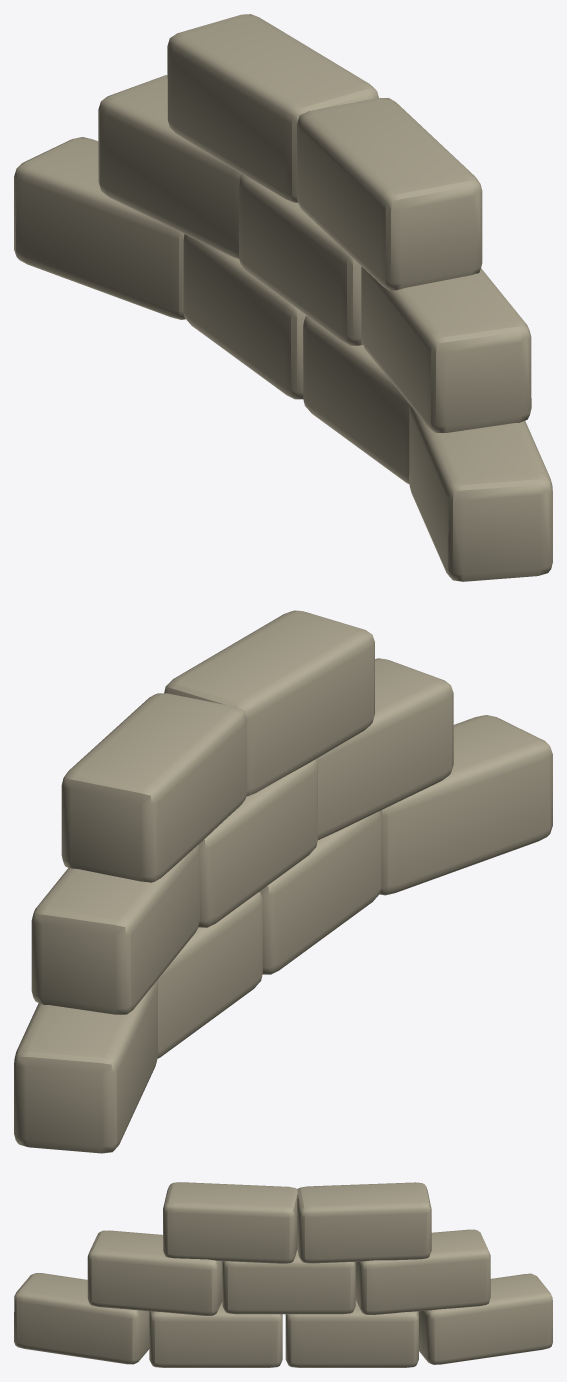
The model's file is okop.gltf.
3 renders of one model, top to bottom at view 1: azimuth 30°, elevation 25°; view 2: azimuth 150°, elevation 25°; view 3: azimuth 270°, elevation 25°, orthographic. The views are drawn at different scales.
Visible parts, largest first — view 1: Cube.007, Cube.008, Cube.004, Cube, Cube.005, Cube.006, Cube.003, Cube.002, Cube.001; view 2: Cube.008, Cube.007, Cube.006, Cube, Cube.005, Cube.004, Cube.003, Cube.001, Cube.002; view 3: Cube.008, Cube.007, Cube.004, Cube, Cube.005, Cube.006, Cube.002, Cube.001, Cube.003.
Boxes of the visible parts, x1,y1,x2,y2 form: Cube.007: (297, 98, 482, 290); Cube.008: (167, 14, 378, 202); Cube.004: (361, 266, 531, 432); Cube: (409, 405, 552, 581); Cube.005: (14, 137, 185, 319); Cube.006: (98, 75, 242, 258); Cube.003: (239, 174, 362, 345); Cube.002: (183, 234, 306, 399); Cube.001: (303, 316, 409, 484); Cube.008: (61, 693, 246, 882); Cube.007: (164, 610, 374, 796); Cube.006: (31, 844, 199, 1014); Cube: (379, 715, 552, 895); Cube.005: (14, 980, 157, 1153); Cube.004: (316, 658, 453, 839); Cube.003: (198, 759, 317, 927); Cube.001: (259, 811, 381, 974); Cube.002: (157, 892, 262, 1058); Cube.008: (297, 1182, 431, 1263); Cube.007: (163, 1182, 297, 1263); Cube.004: (87, 1230, 222, 1315); Cube: (14, 1273, 149, 1364); Cube.005: (419, 1273, 552, 1364); Cube.006: (355, 1229, 490, 1314); Cube.002: (285, 1300, 418, 1367); Cube.001: (149, 1302, 282, 1367); Cube.003: (222, 1249, 355, 1314).
Bounding box in the file's own units: 3.53 × 5.74 × 17.24.
